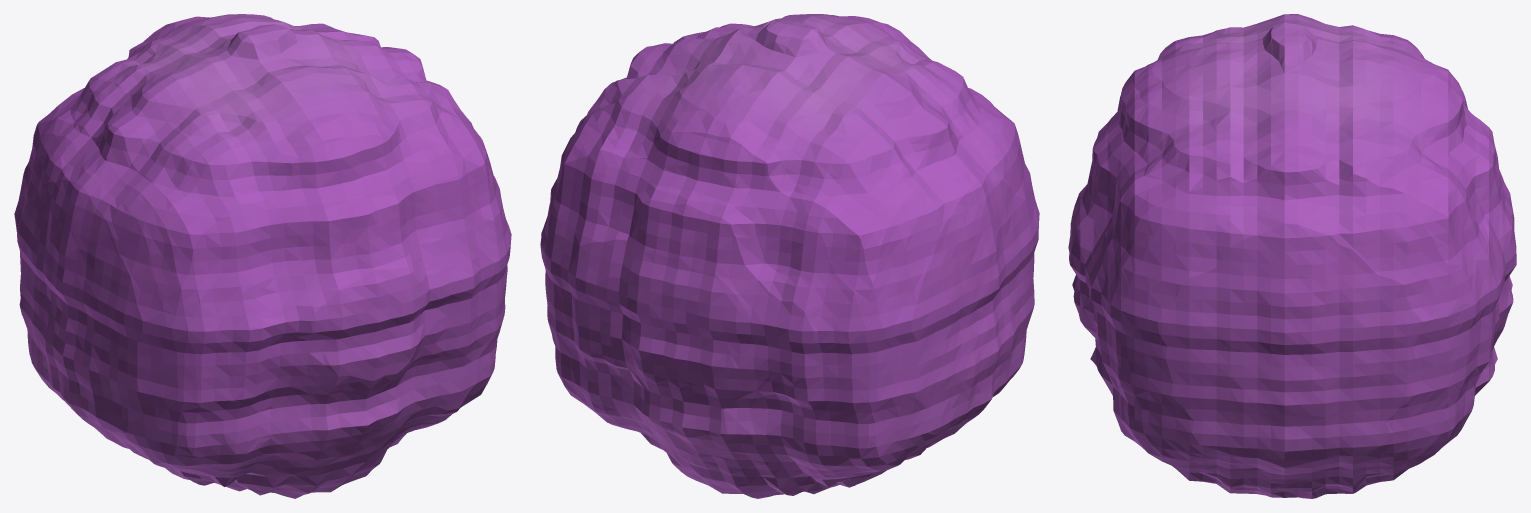
3 renders of one model, left to right at view 1: azimuth 30°, elevation 25°; view 2: azimuth 150°, elevation 25°; view 3: azimuth 270°, elevation 25°, orthographic.
Visible parts, largest first — view 1: geometry_0; view 2: geometry_0; view 3: geometry_0.
Part boxes in pixels (box(x1,y1,x2,y2)): geometry_0: box(14, 14, 511, 498); geometry_0: box(540, 14, 1039, 498); geometry_0: box(1068, 14, 1516, 498).
Size of the model in its own units: 1.48 by 1.52 by 1.4.
